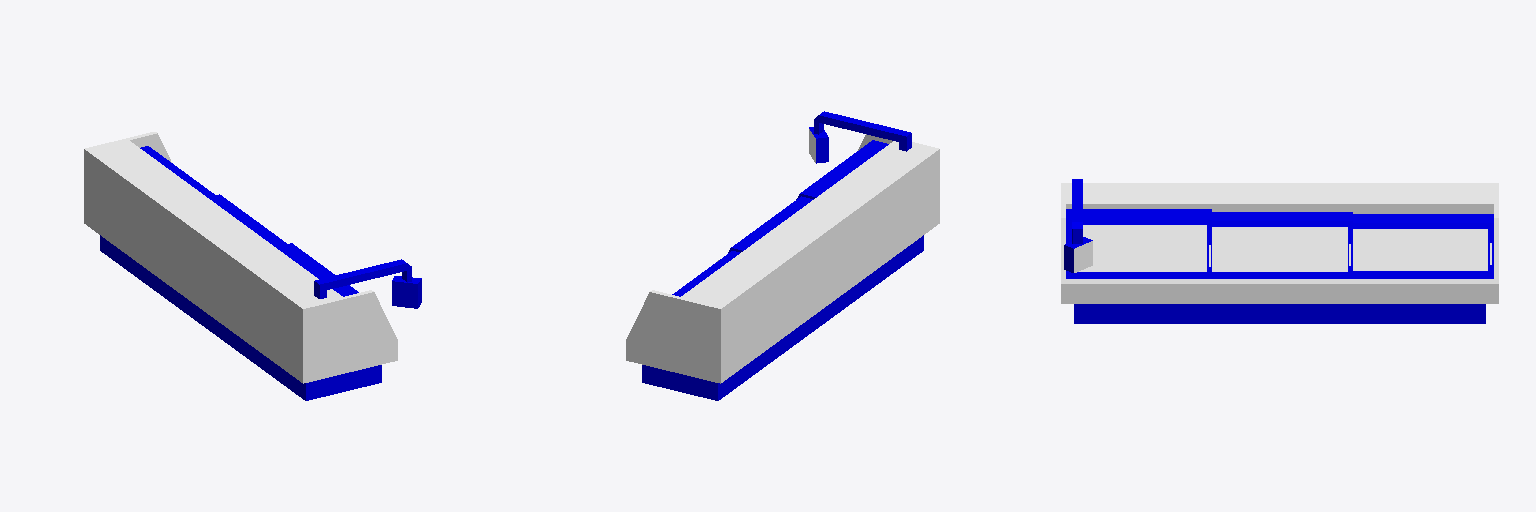
File: Perceuse.obj
3 views of the same model, side by side, from view 1: azimuth 30°, elevation 25°; view 2: azimuth 150°, elevation 25°; view 3: azimuth 270°, elevation 25° (orthographic).
Parts seen in each view (by area): view 1: Solide1, Solide1:1, Solide1:2, Solide1:3; view 2: Solide1, Solide1:1, Solide1:2; view 3: Solide1, Solide1:2, Solide1:3, Solide1:1.
Boxes of the visible parts, x1=… form: Solide1: x1=84, y1=132, x2=421, y2=400; Solide1:1: x1=276, y1=243, x2=358, y2=296; Solide1:2: x1=207, y1=194, x2=286, y2=246; Solide1:3: x1=140, y1=146, x2=214, y2=196; Solide1: x1=626, y1=111, x2=939, y2=400; Solide1:1: x1=796, y1=140, x2=888, y2=199; Solide1:2: x1=717, y1=196, x2=813, y2=261; Solide1: x1=1061, y1=179, x2=1498, y2=323; Solide1:2: x1=1212, y1=212, x2=1352, y2=278; Solide1:3: x1=1353, y1=214, x2=1493, y2=278; Solide1:1: x1=1066, y1=209, x2=1211, y2=278.
Bounding box in the file's own units: 2632 × 2300 × 8000.